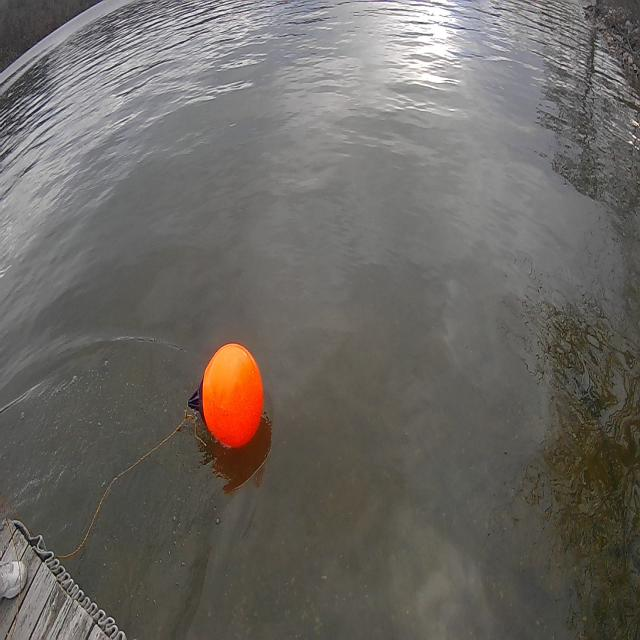Buoy: (199, 339, 266, 455)
